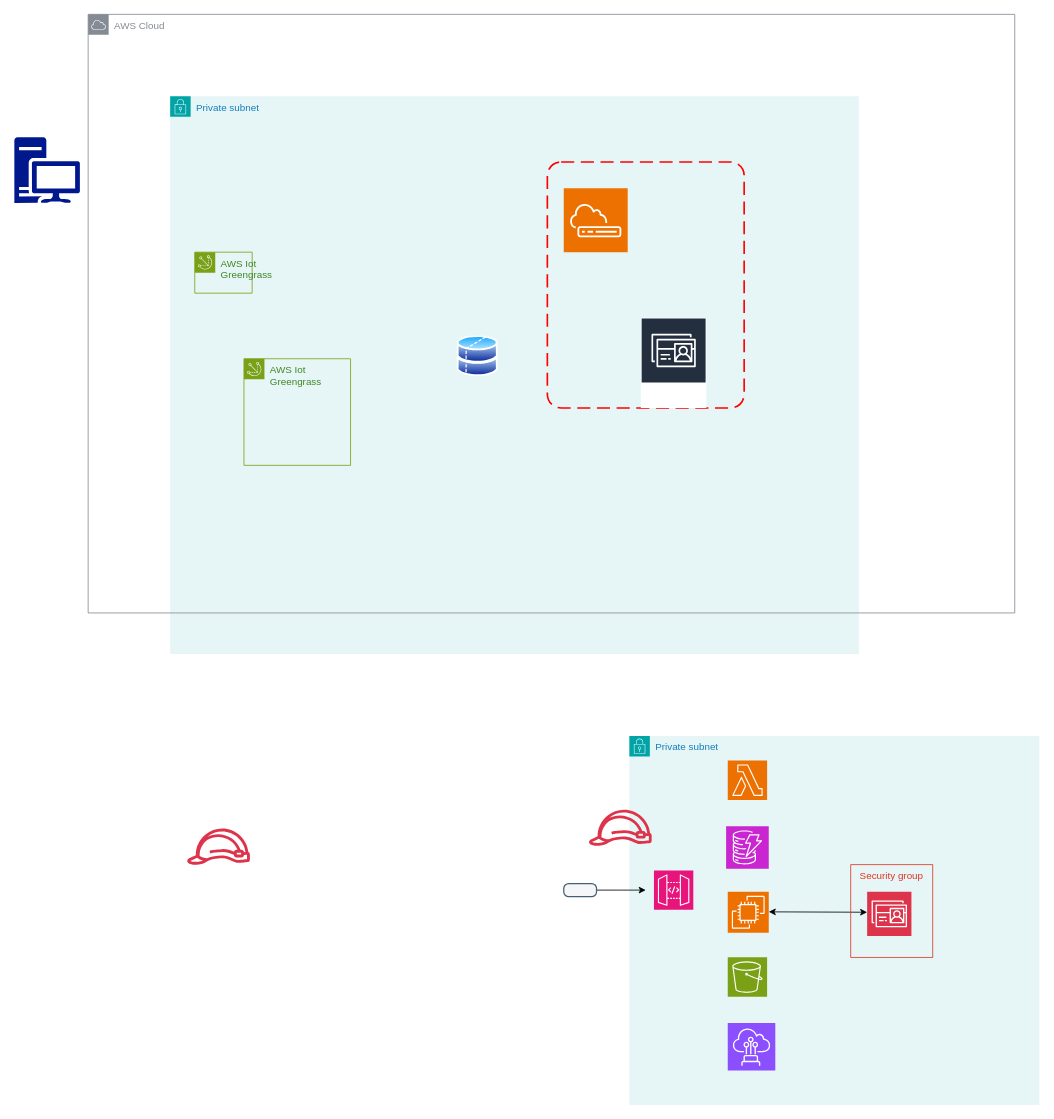
Image size: 1054x1119. Some labels were removed from this diagram. Each missing label, with the centre of its shape:
"AWS Directory Service" belongs at point 673,362.
"HTTPS" belongs at point 580,890.
